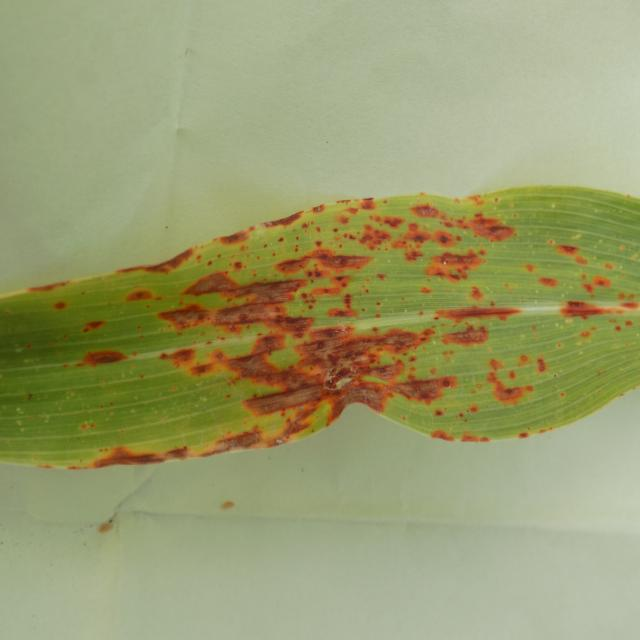millet_rust: (2, 186, 640, 467)
